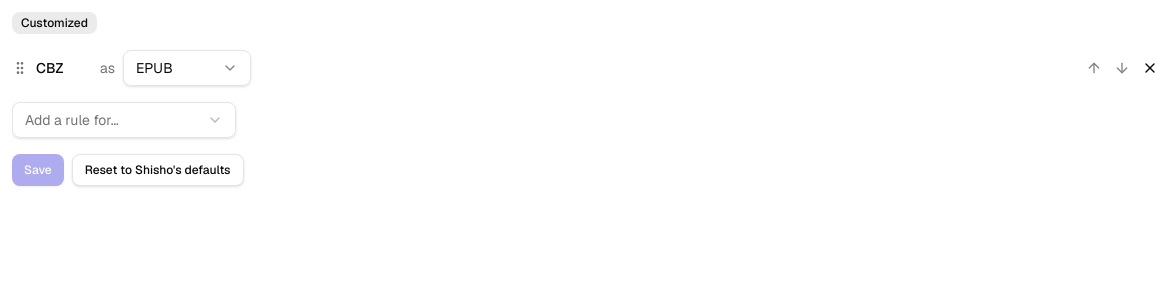
Test: DeliveryRulesEditor › resets a customized list to follow the built-in rules
Expected: the text "Customized" is shown, [12,12,97,34]
Click the button "Reset to Shisho's defaults". click: (158, 170)
box: [72,154,244,186]
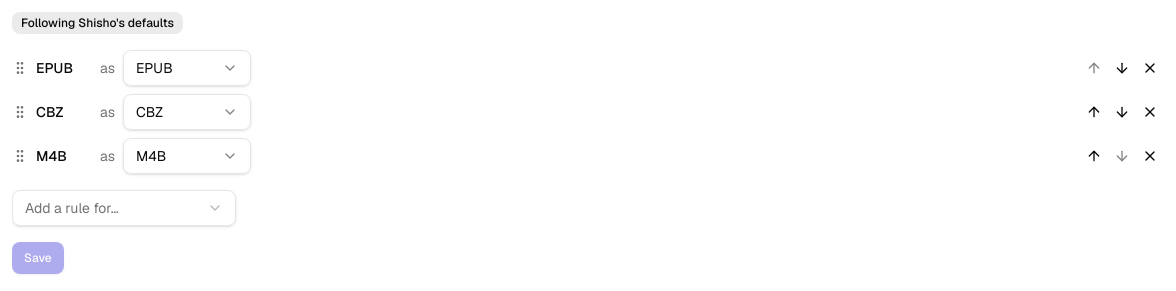
Now the text "Following Shisho's defaults" is shown, box [12,12,183,34]
Now the button "Reset to Shisho's defaults" is gone
